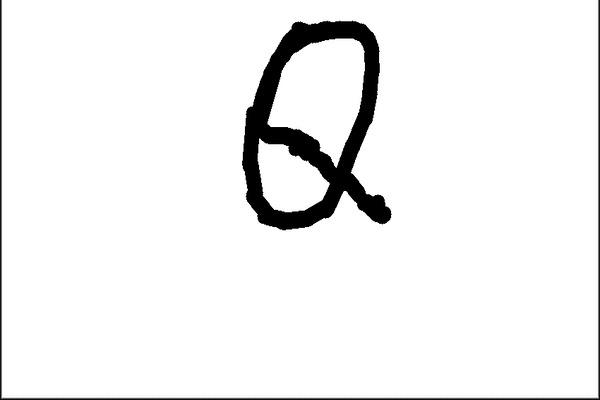Q: (229, 10, 387, 235)
